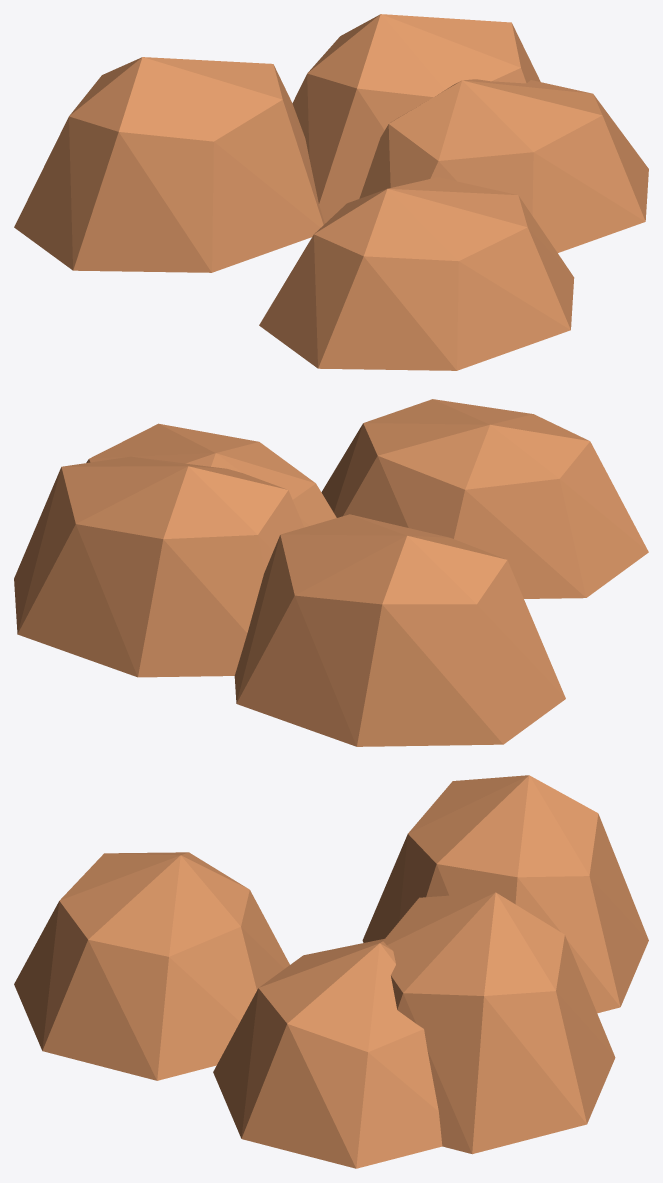
3 views of the same model, one above another, from view 1: azimuth 30°, elevation 25°; view 2: azimuth 150°, elevation 25°; view 3: azimuth 270°, elevation 25° (orthographic). The views are drawn at different scales.
Visible parts, largest first — view 1: 区域碎石簇_2.001; view 2: 区域碎石簇_2.001; view 3: 区域碎石簇_2.001.
Part boxes in pixels (x1,y1,x2,y2): 区域碎石簇_2.001: [14, 14, 648, 370]; 区域碎石簇_2.001: [14, 399, 648, 746]; 区域碎石簇_2.001: [14, 775, 648, 1168].
Bounding box in the file's own units: 0.2497 × 0.07 × 0.2377.
